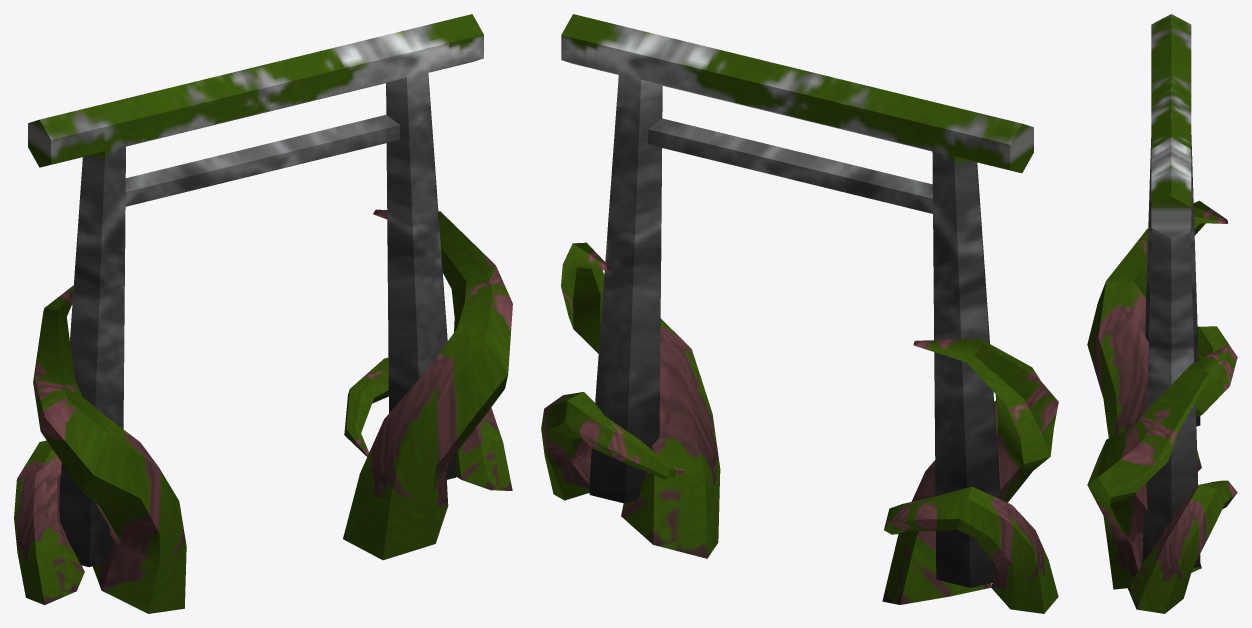
File: gate.fbx
3 views of the same model, side by side, from view 1: azimuth 30°, elevation 25°; view 2: azimuth 150°, elevation 25°; view 3: azimuth 270°, elevation 25° (orthographic). The views are drawn at different scales.
Parts seen in each view (by area): view 1: Gate; view 2: Gate; view 3: Gate.
Part boxes in pixels (x1=…): Gate: x1=14, y1=14, x2=512, y2=613; Gate: x1=541, y1=14, x2=1058, y2=613; Gate: x1=1087, y1=14, x2=1237, y2=613.
Size of the model in its own units: 4285 by 4291 by 1352.
